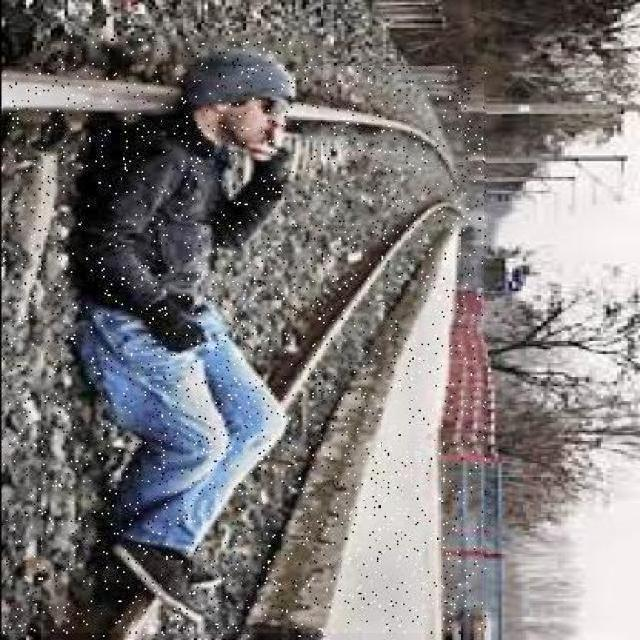rail: (1, 68, 485, 634)
